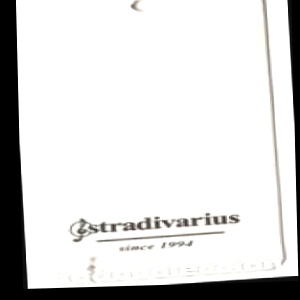stradivarius: (230, 60, 260, 283)
